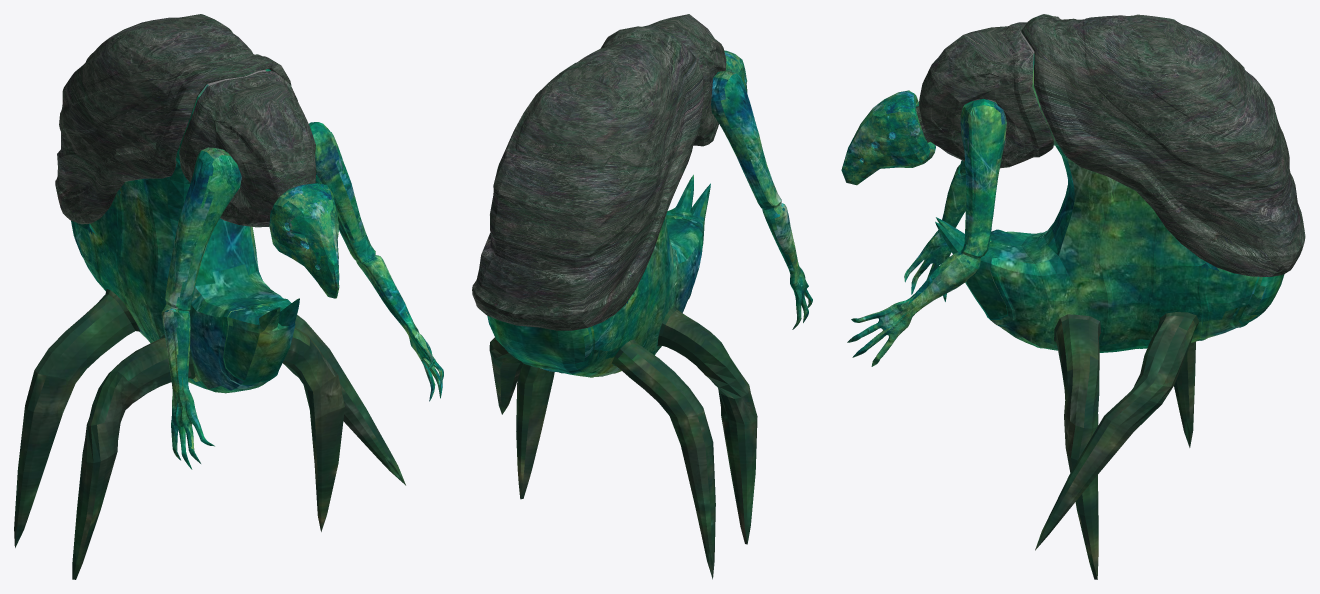
File: Andar.0010.obj
The picture shows the model from 3 angles, left to right: view 1: azimuth 30°, elevation 25°; view 2: azimuth 150°, elevation 25°; view 3: azimuth 270°, elevation 25°; orthographic projection. The views are drawn at different scales.
Size of the model in its own units: 2.46 by 3.92 by 3.29.
Materials: 5 (4 with a texture image).
